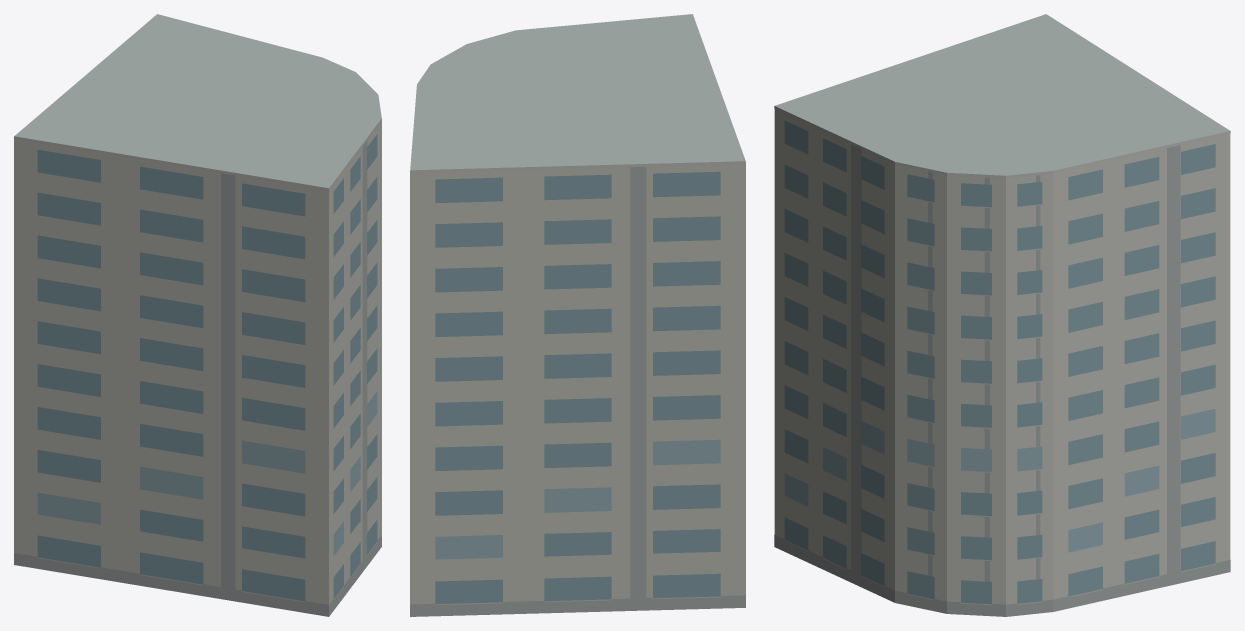
File: residential-ce0358c2-fffa-4173-916b-ac4b72ccb6fc.glb
3 views of the same model, side by side, from view 1: azimuth 30°, elevation 25°; view 2: azimuth 150°, elevation 25°; view 3: azimuth 270°, elevation 25° (orthographic). The views are drawn at different scales.
Visible parts, largest first — view 1: residential-ce0358c2-fffa-4173-916b-ac4b72ccb6fc.tmp; view 2: residential-ce0358c2-fffa-4173-916b-ac4b72ccb6fc.tmp; view 3: residential-ce0358c2-fffa-4173-916b-ac4b72ccb6fc.tmp.
Part boxes in pixels (x1,y1,x2,y2): residential-ce0358c2-fffa-4173-916b-ac4b72ccb6fc.tmp: (14, 14, 381, 616); residential-ce0358c2-fffa-4173-916b-ac4b72ccb6fc.tmp: (410, 14, 745, 616); residential-ce0358c2-fffa-4173-916b-ac4b72ccb6fc.tmp: (774, 14, 1230, 616).
Size of the model in its own units: 29.1 by 37 by 34.66.
